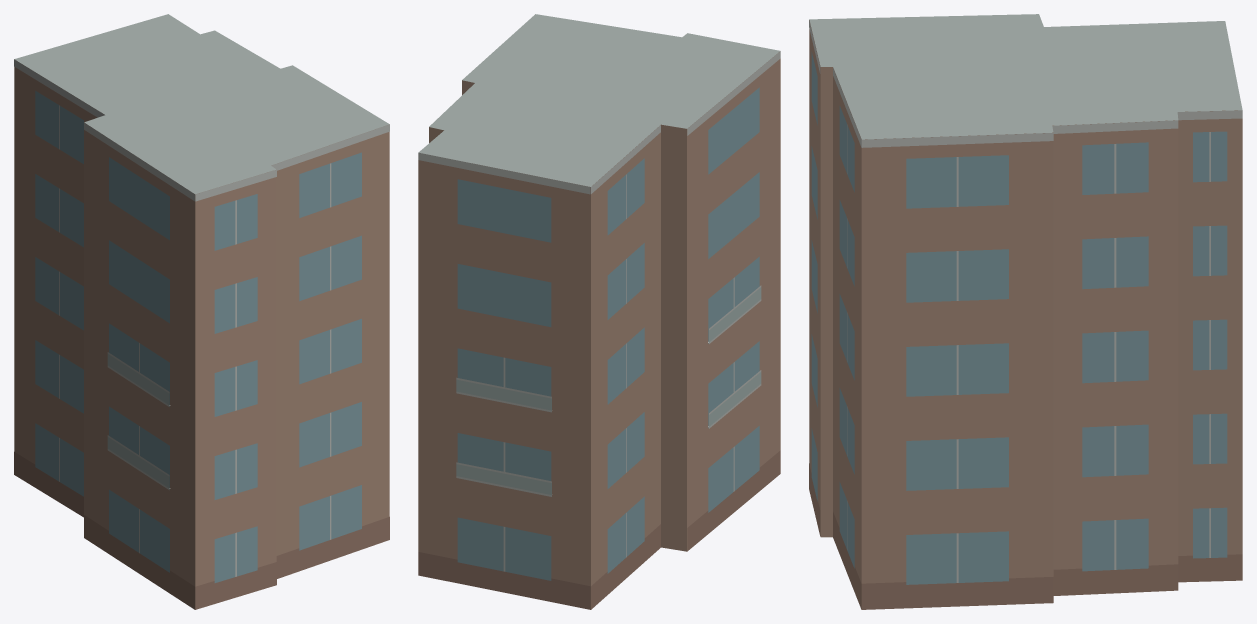
File: survey-upis-32955575.glb
3 renders of one model, left to right at view 1: azimuth 30°, elevation 25°; view 2: azimuth 150°, elevation 25°; view 3: azimuth 270°, elevation 25°, orthographic. The views are drawn at different scales.
Visible parts, largest first — view 1: survey-upis-32955575.tmp; view 2: survey-upis-32955575.tmp; view 3: survey-upis-32955575.tmp.
Boxes of the visible parts, x1,y1,x2,y2 form: survey-upis-32955575.tmp: (14, 14, 389, 609); survey-upis-32955575.tmp: (418, 14, 780, 609); survey-upis-32955575.tmp: (809, 14, 1242, 609).
Size of the model in its own units: 7.93 by 13.84 by 11.57.
